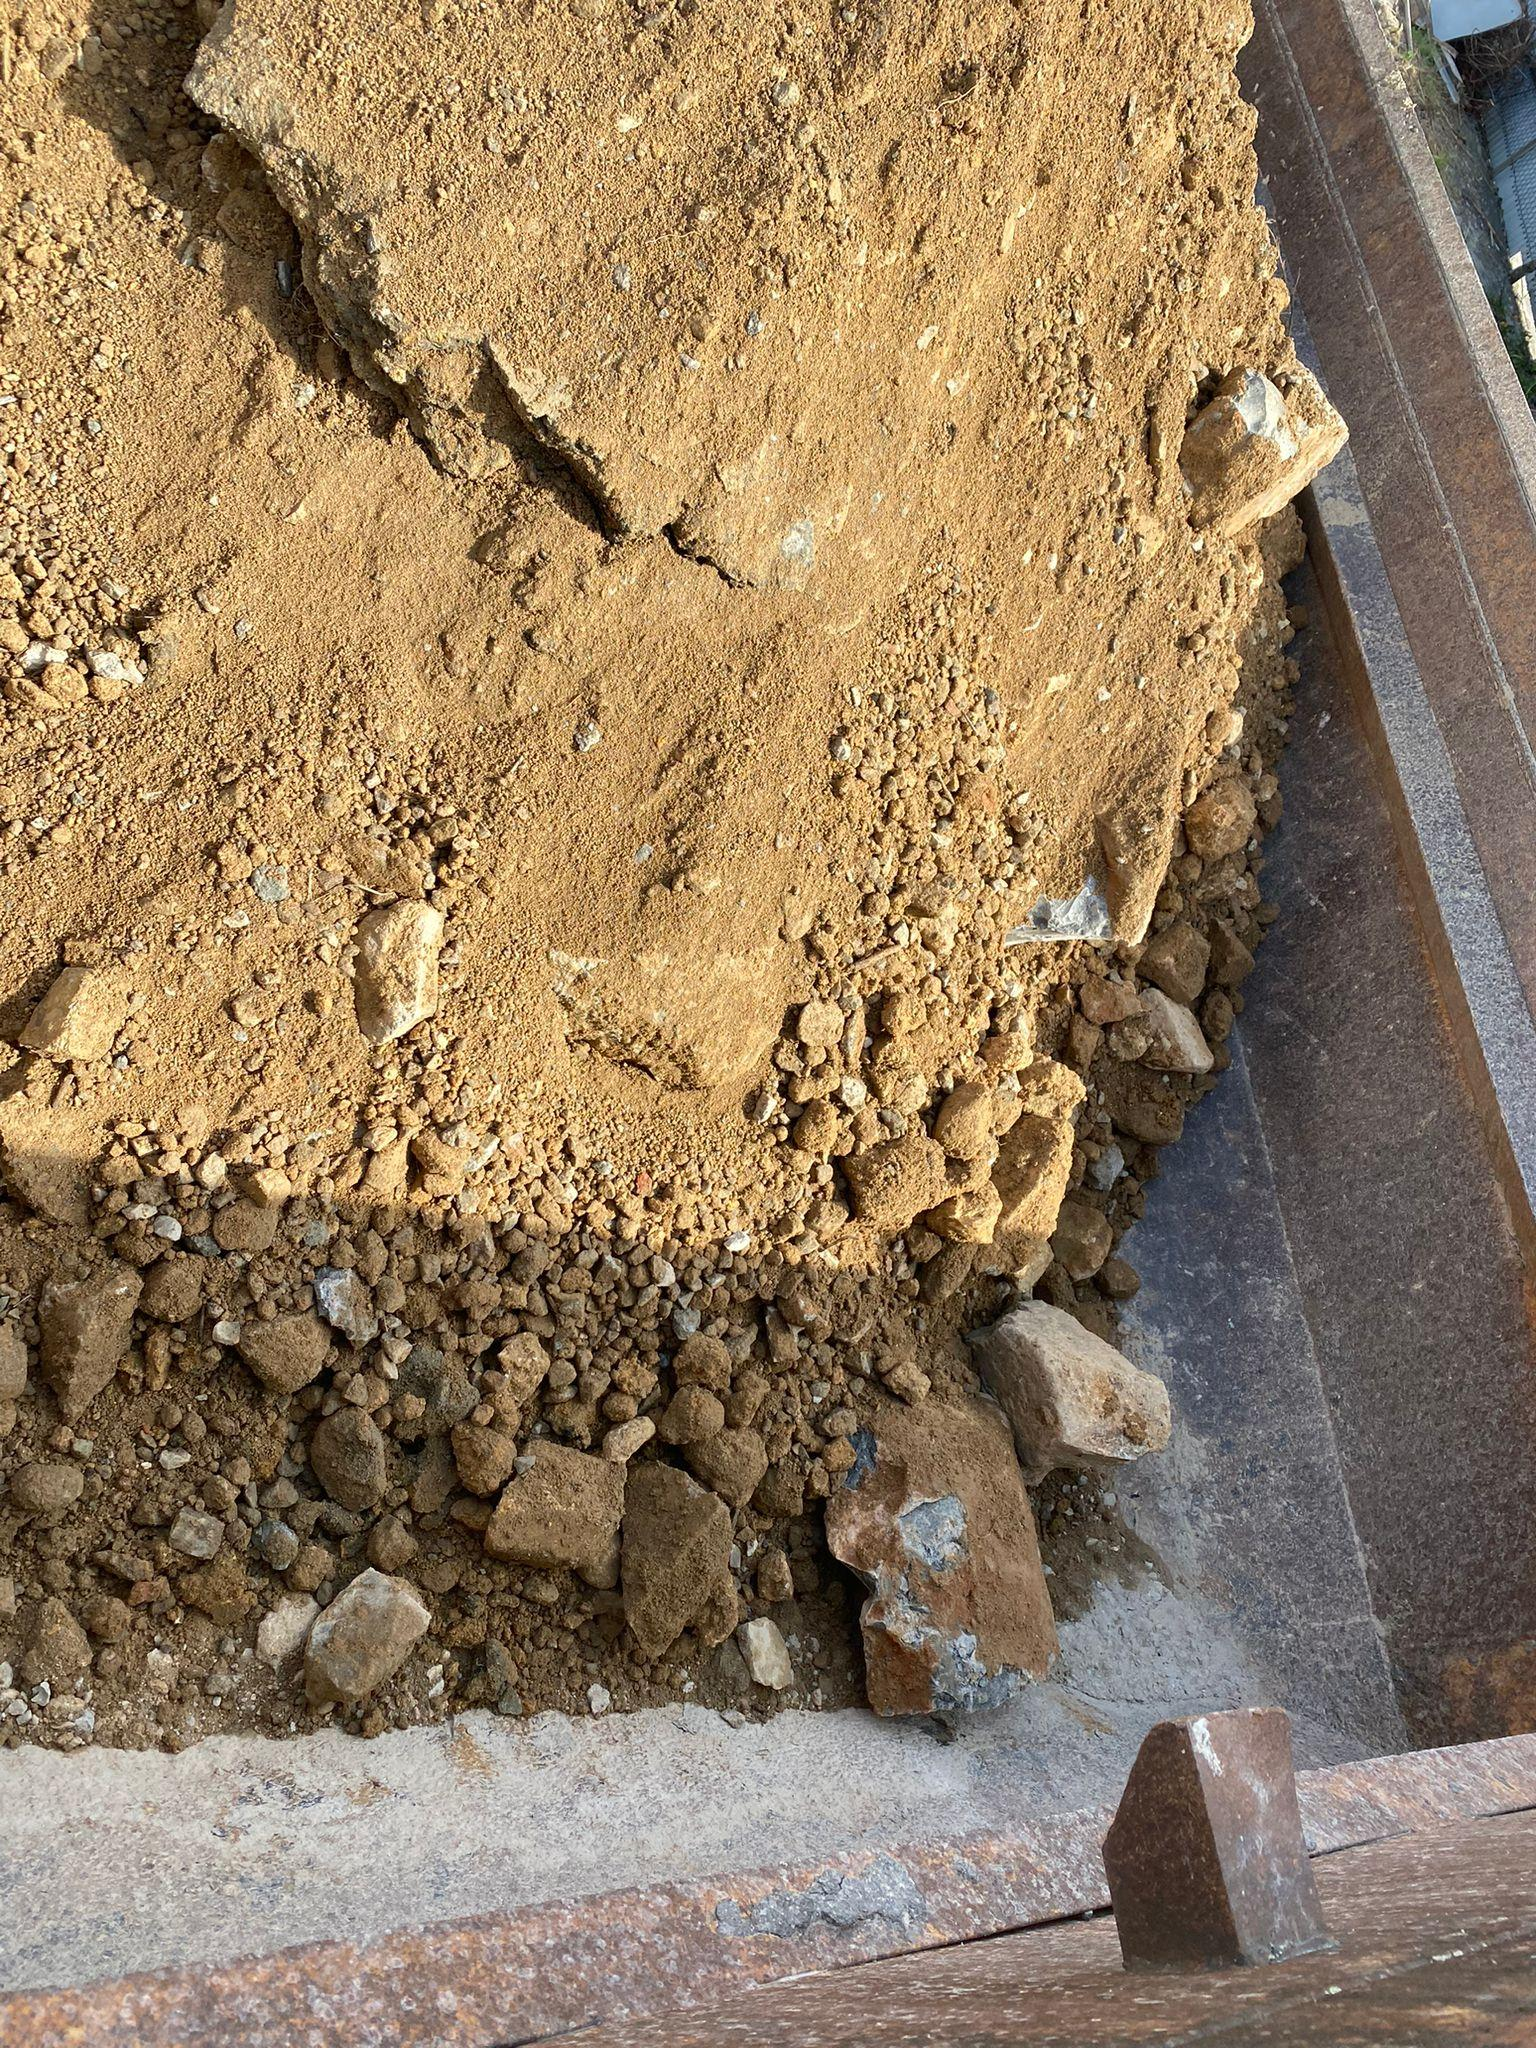dry: (3, 3, 1323, 1737)
